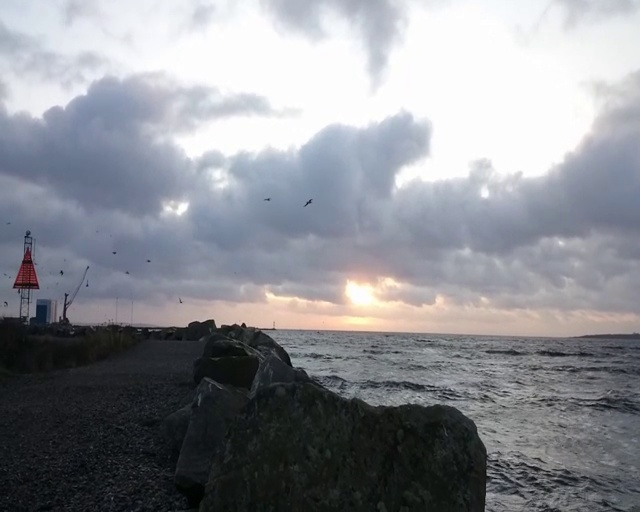BIRD: (304, 198, 313, 206)
